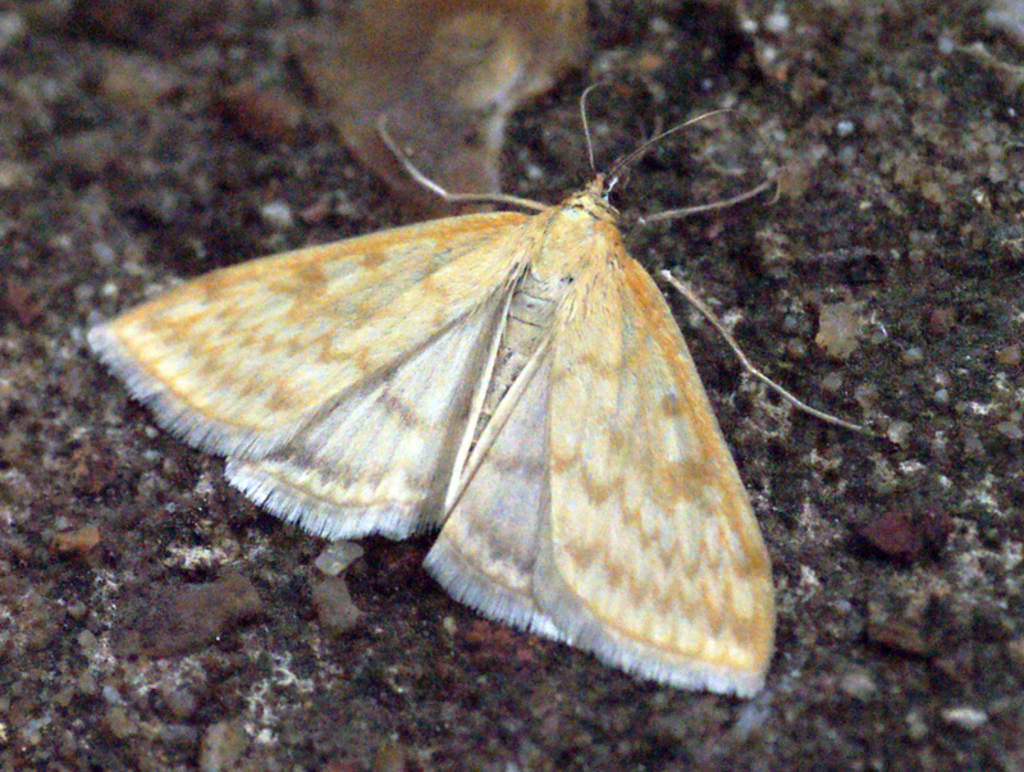Butterfly: (85, 165, 852, 733)
